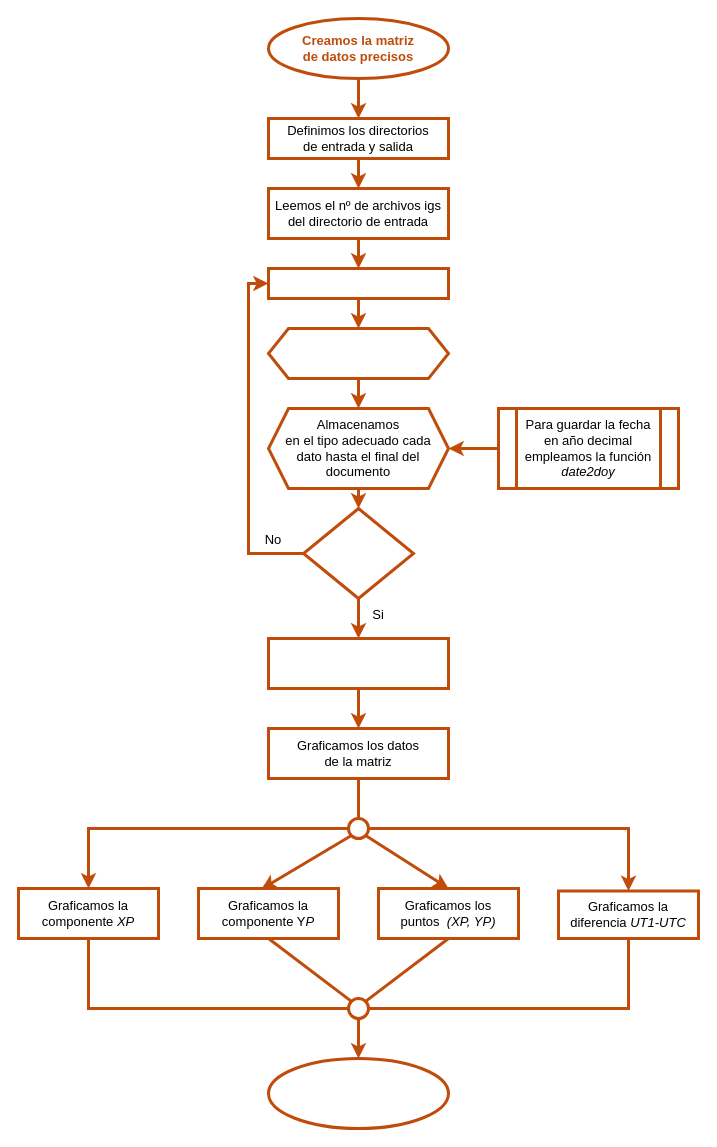
The diagram is 717 pixels wide and 1147 high, and some of its shapes have lost their labels. Each missing label, with the centre of its shape:
"Abrimos archivo igs" goes at (x=358, y=283).
"Análisis de las figuras" goes at (x=358, y=1093).
"Guardamos la matriz obtenida como archivo .mat" goes at (x=358, y=663).
"Saltamos la cabecera del archivo igs" goes at (x=358, y=353).
"¿Es el último archivo?" goes at (x=358, y=553).
